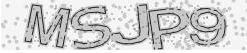9: (188, 6, 228, 50)
J: (112, 3, 150, 46)
M: (22, 2, 71, 51)
P: (148, 7, 191, 51)
S: (71, 4, 112, 50)
